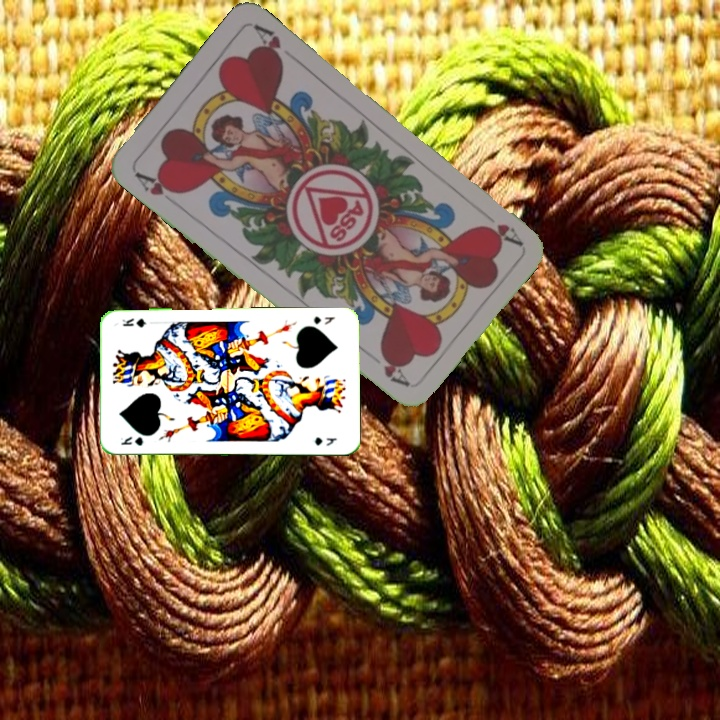GK: (117, 432, 146, 448), (310, 312, 337, 327)
HA: (130, 167, 184, 199), (476, 219, 524, 248)
